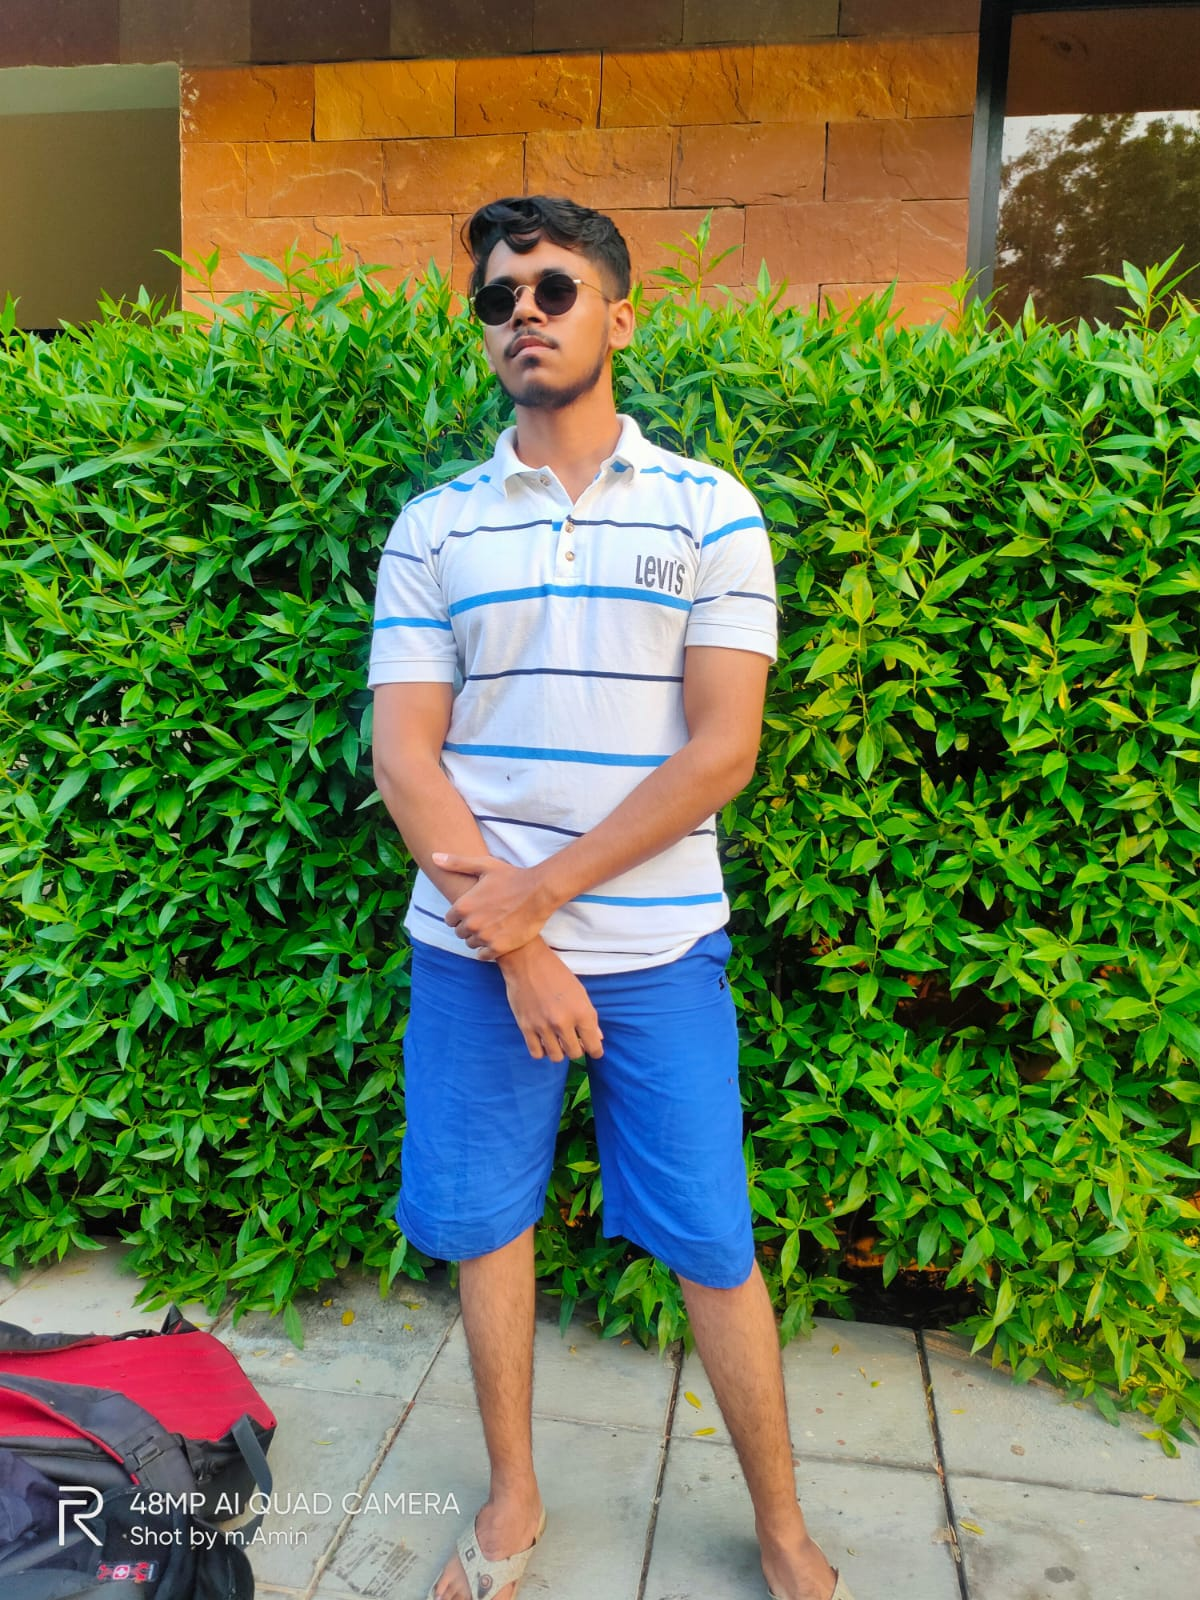NoMask: (478, 267, 598, 407)
